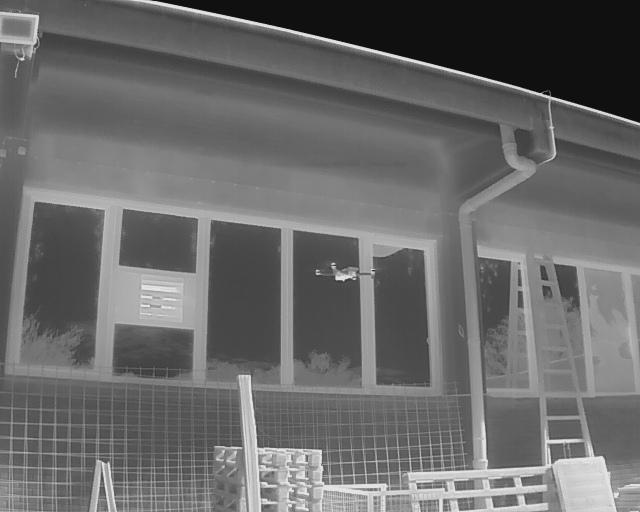drone: (300, 256, 383, 288)
